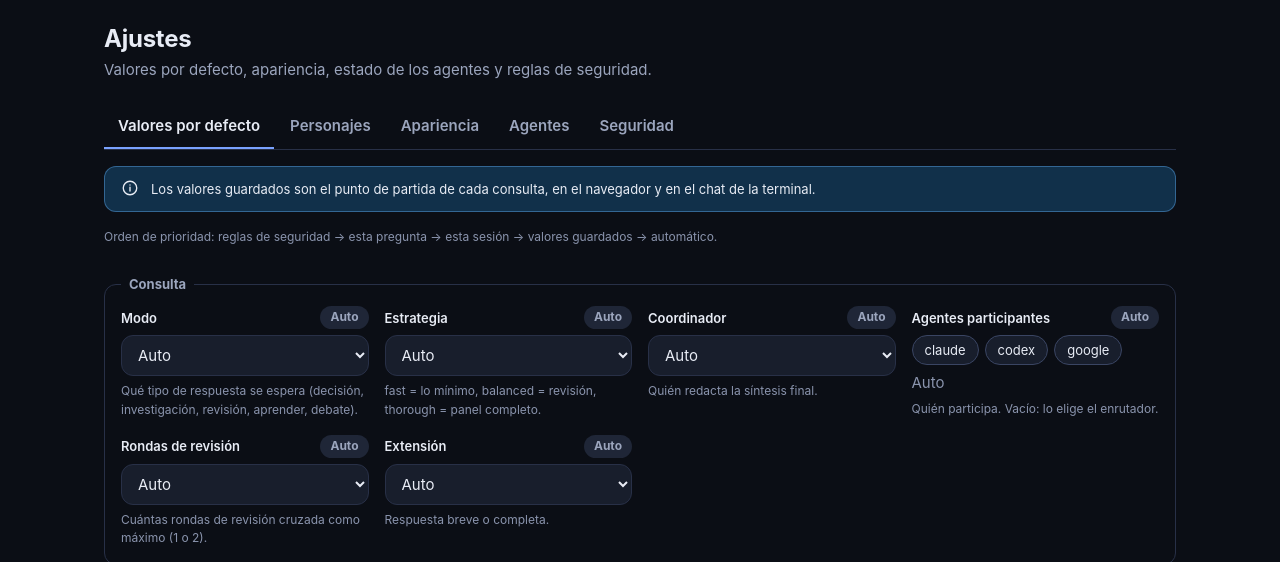
Test: characters settings › says plainly what a personality is and is not
Click the tab "Personajes": (330, 127) [276,105,385,149]
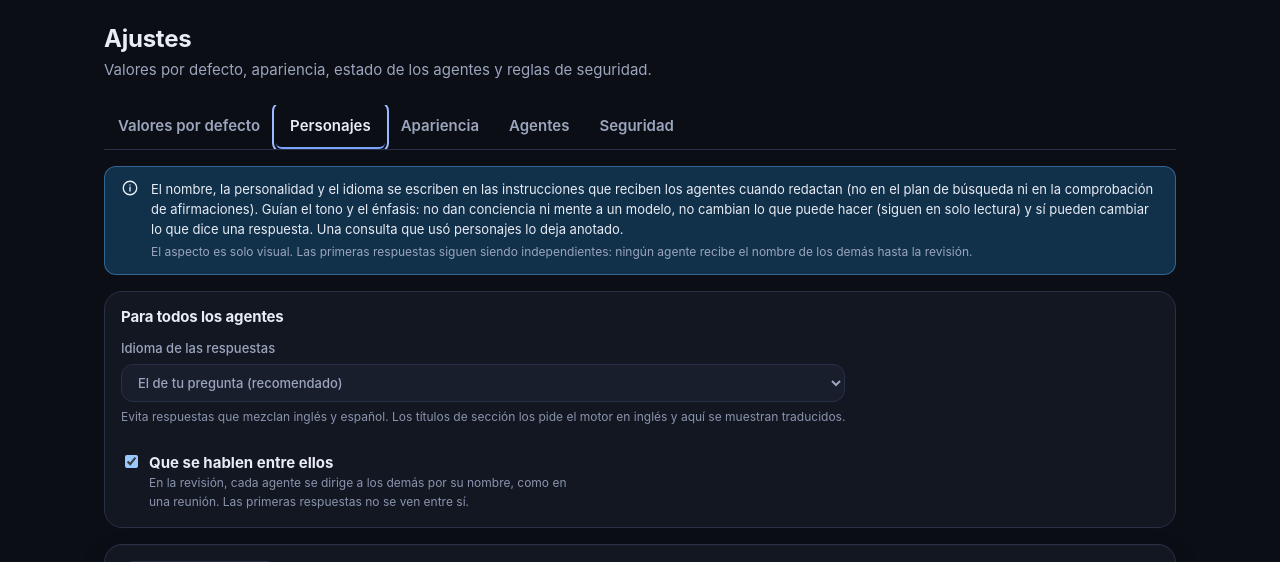
Expected: the text "siguen en solo lectura" is shown, [151,180,1153,237]
Expected: the text "ningún agente recibe el nombre de los demás hasta la revisión" is shown, [151,244,972,259]
